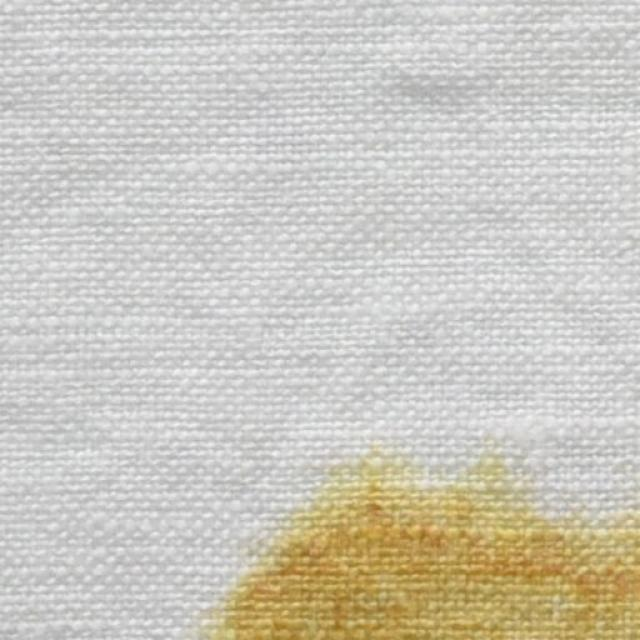Stain: (202, 454, 640, 639)
